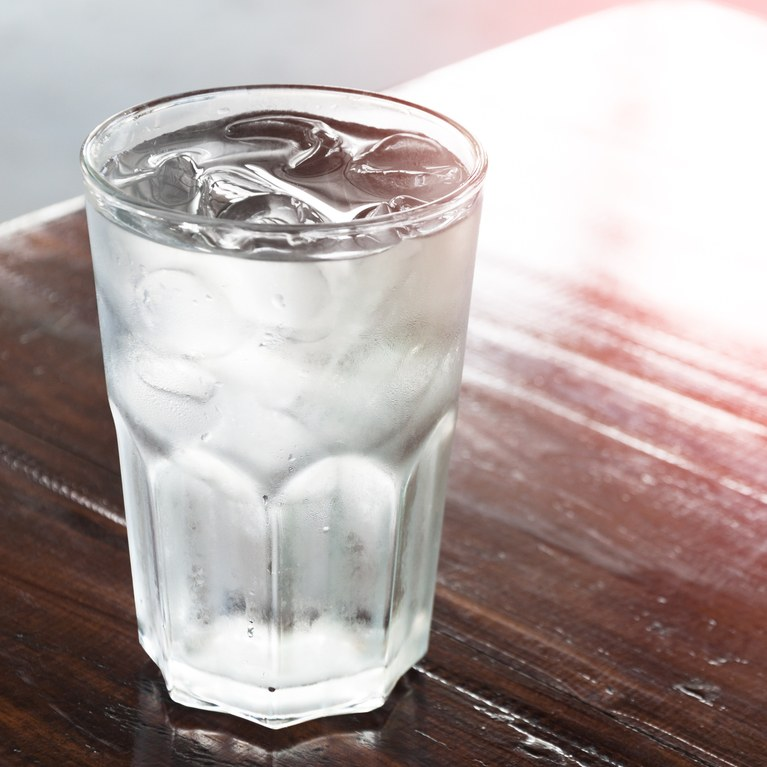glass of water: (113, 146, 421, 694)
